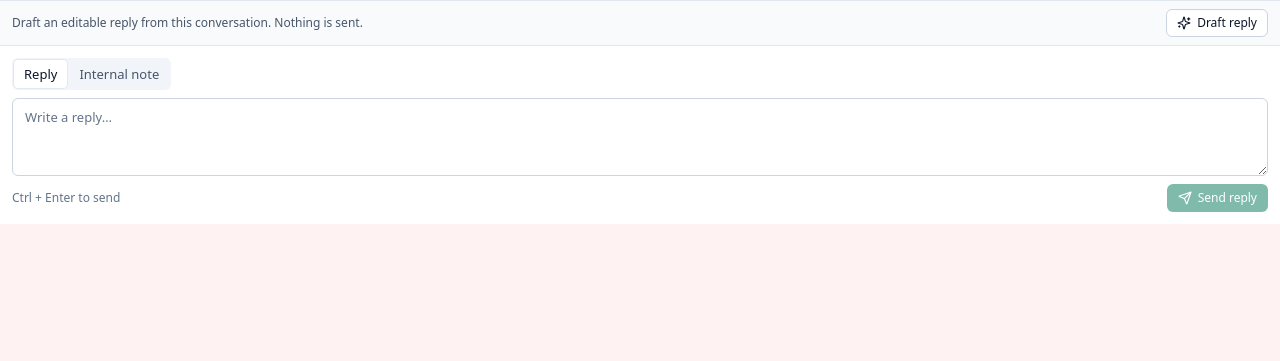
Test: AI reply draft › explains why every sentence exists
This screenshot has width=1280, height=361.
Click the button "Draft reply". click: (1217, 23)
box: x1=1166 y1=9 x2=1268 y2=37
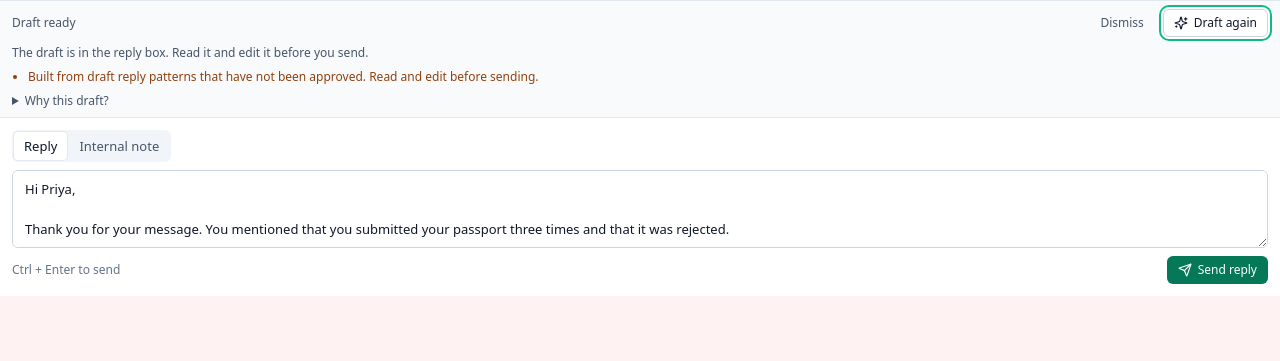
Click the heading "Why this draft?". click: (67, 100)
box: x1=25 y1=92 x2=109 y2=109
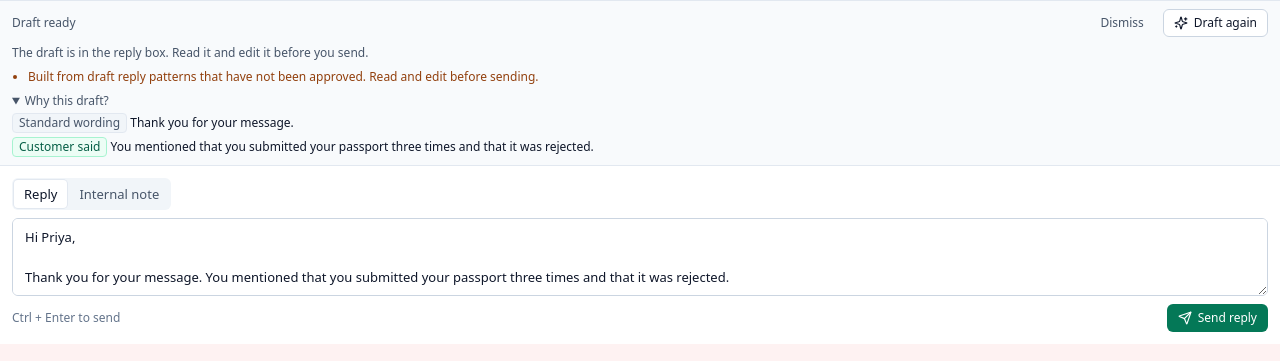
Now the text "Customer said" is shown, box x1=12 y1=137 x2=107 y2=157
Now the text "Standard wording" is shown, box x1=12 y1=113 x2=127 y2=133
